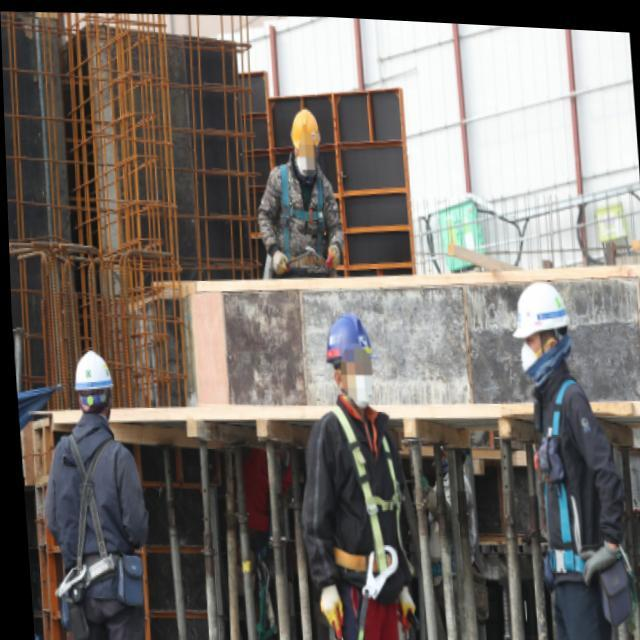belt: (314, 388, 416, 640), (32, 426, 126, 606), (525, 366, 599, 572), (272, 157, 334, 265)
